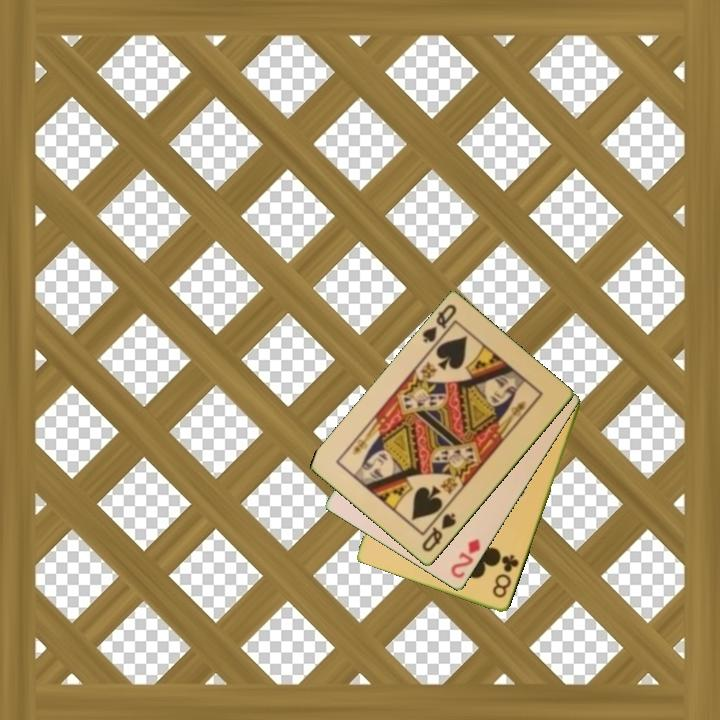2d: (447, 535, 484, 582)
8c: (489, 551, 522, 601)
Qs: (418, 510, 459, 555), (419, 301, 459, 346)
